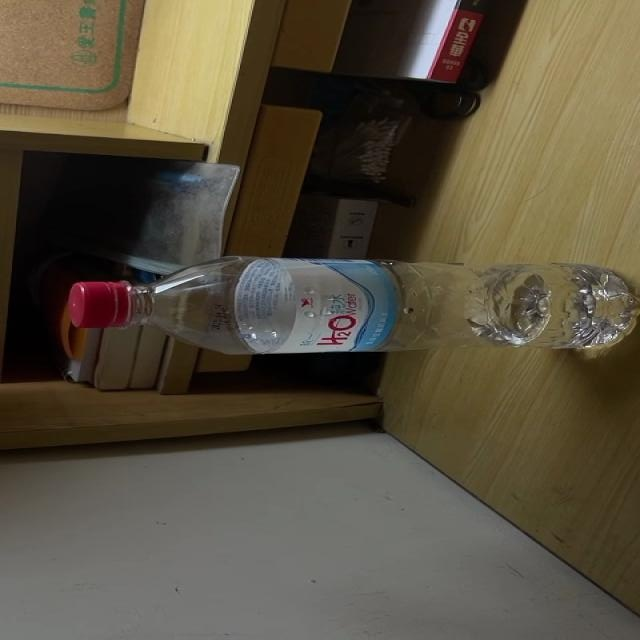Water: (70, 257, 640, 357)
